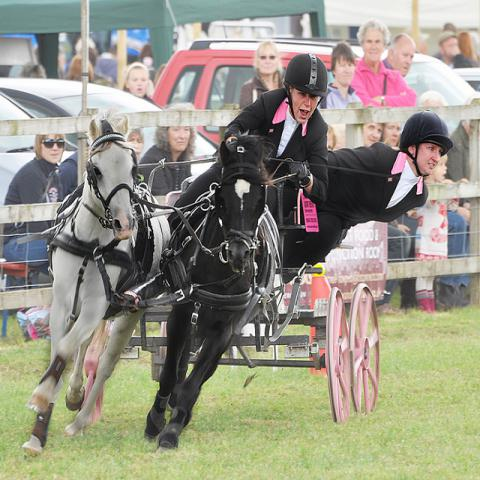car: (156, 37, 478, 112), (1, 77, 222, 160), (0, 90, 76, 206), (411, 53, 479, 91), (198, 17, 276, 39)
